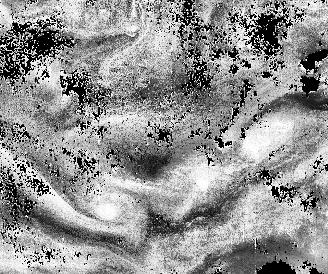CE: (87, 174, 152, 239)
